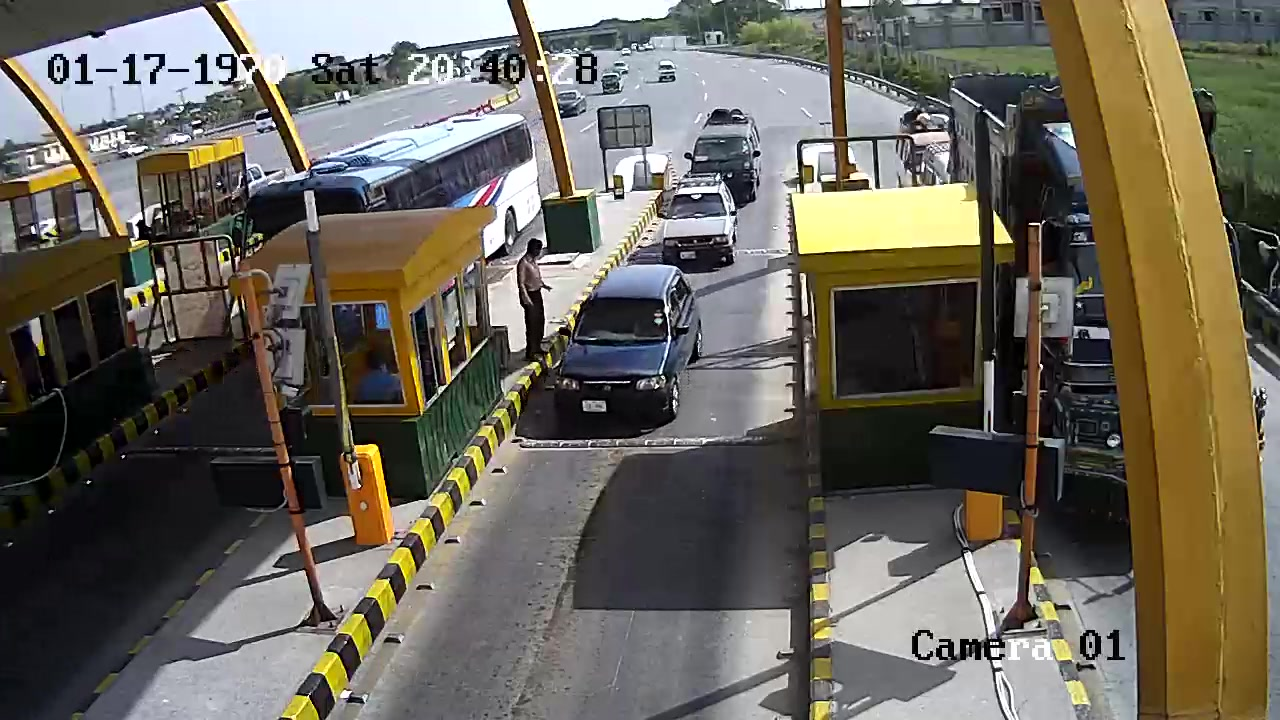F1: (557, 262, 709, 451)
